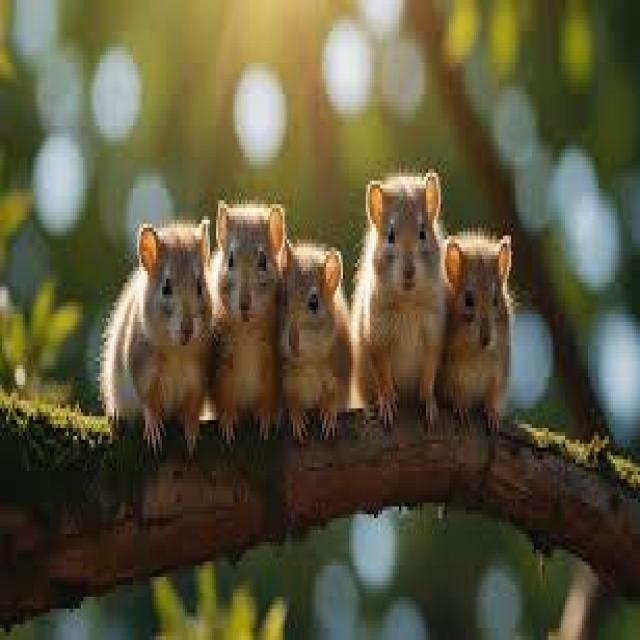rat: (98, 165, 515, 451), (98, 216, 214, 455), (349, 165, 449, 428), (208, 196, 284, 440), (436, 228, 514, 428), (276, 236, 352, 440)
